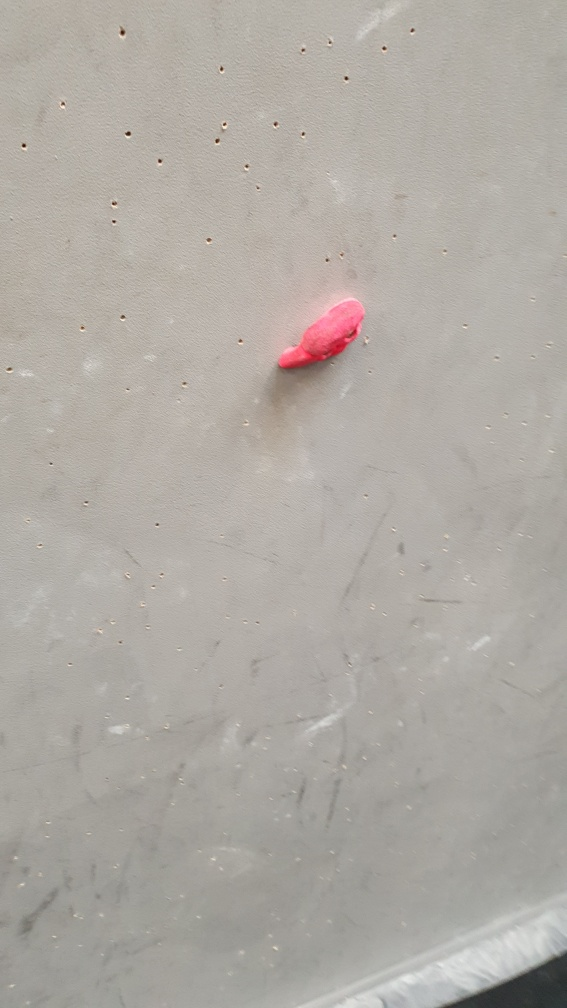Jug: (275, 295, 367, 379)
